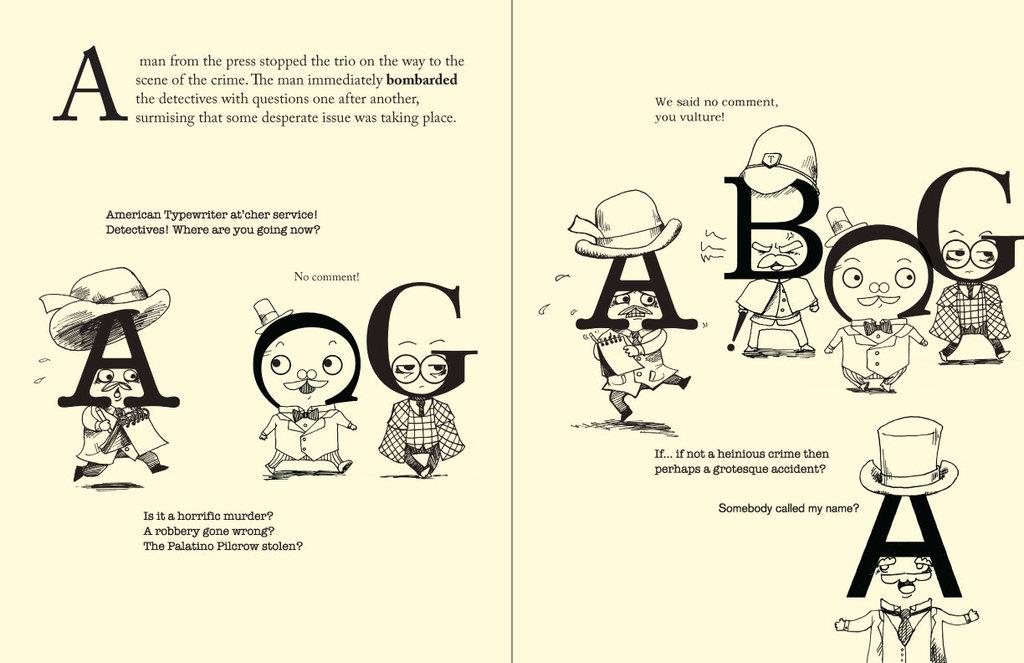Hat: (39, 264, 170, 353), (852, 410, 954, 496), (564, 189, 678, 259), (736, 121, 814, 195), (824, 198, 864, 247), (254, 295, 292, 336)
